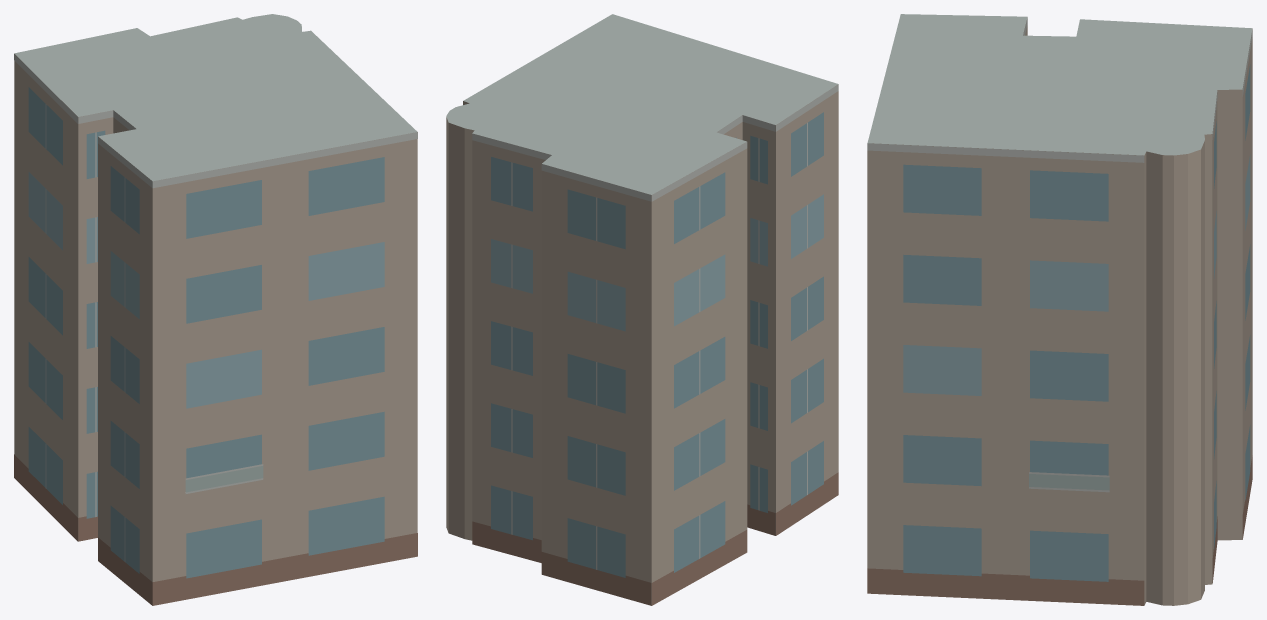
The model's file is survey-upis-32658146.glb.
3 views of the same model, side by side, from view 1: azimuth 30°, elevation 25°; view 2: azimuth 150°, elevation 25°; view 3: azimuth 270°, elevation 25° (orthographic). The views are drawn at different scales.
Parts seen in each view (by area): view 1: survey-upis-32658146.tmp; view 2: survey-upis-32658146.tmp; view 3: survey-upis-32658146.tmp.
Boxes of the visible parts, x1,y1,x2,y2 form: survey-upis-32658146.tmp: [14, 14, 417, 605]; survey-upis-32658146.tmp: [446, 14, 838, 605]; survey-upis-32658146.tmp: [867, 14, 1252, 605].
Bounding box in the file's own units: 10.01 × 14.85 × 11.52.
